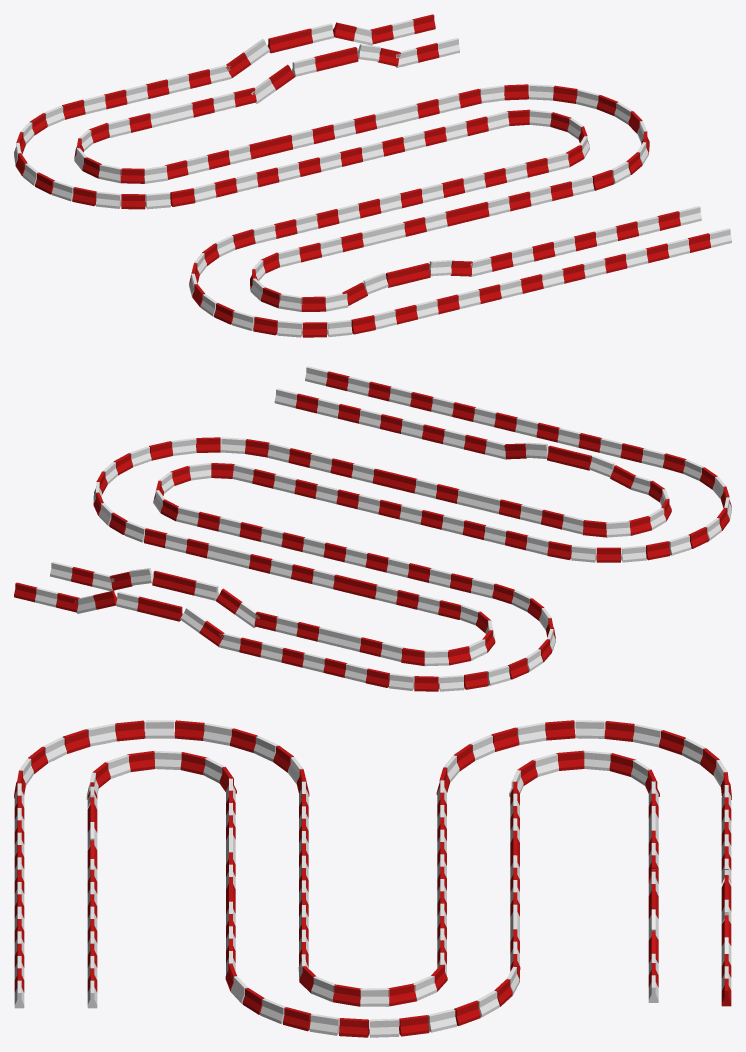
Rendered from bariyer.dae.
The picture shows the model from 3 angles, top to bottom: view 1: azimuth 30°, elevation 25°; view 2: azimuth 150°, elevation 25°; view 3: azimuth 270°, elevation 25°; orthographic projection. The views are drawn at different scales.
Visible parts, largest first — view 1: no part large enough to name; view 2: no part large enough to name; view 3: Extrusion (×18).
Boxes of the visible parts, x1,y1,x2,y2 form: Extrusion (×18): (87, 720, 634, 1037).
Bounding box in the file's own units: 33964 × 33965 × 2027.
